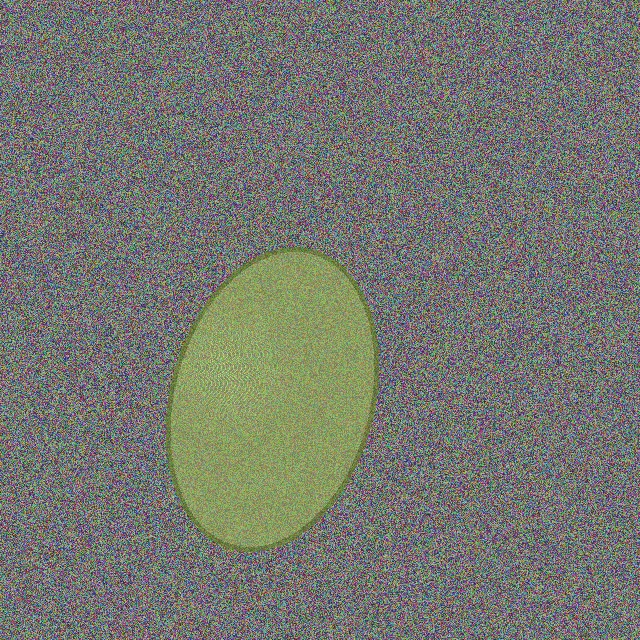lens: (168, 250, 376, 548)
